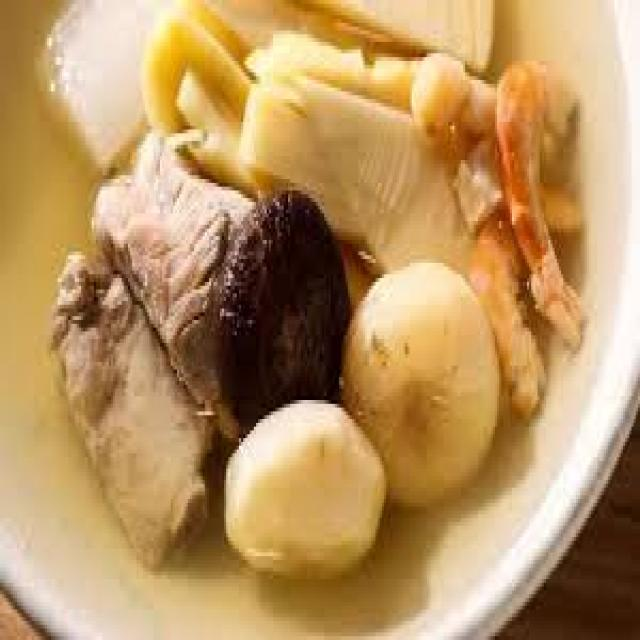organic waste: (237, 23, 578, 289), (47, 247, 211, 564), (85, 130, 244, 434), (337, 255, 497, 507), (213, 186, 348, 426), (220, 392, 382, 583), (495, 49, 584, 350), (138, 0, 250, 187), (36, 4, 143, 168), (465, 205, 546, 408), (275, 0, 493, 69), (410, 46, 467, 152)
